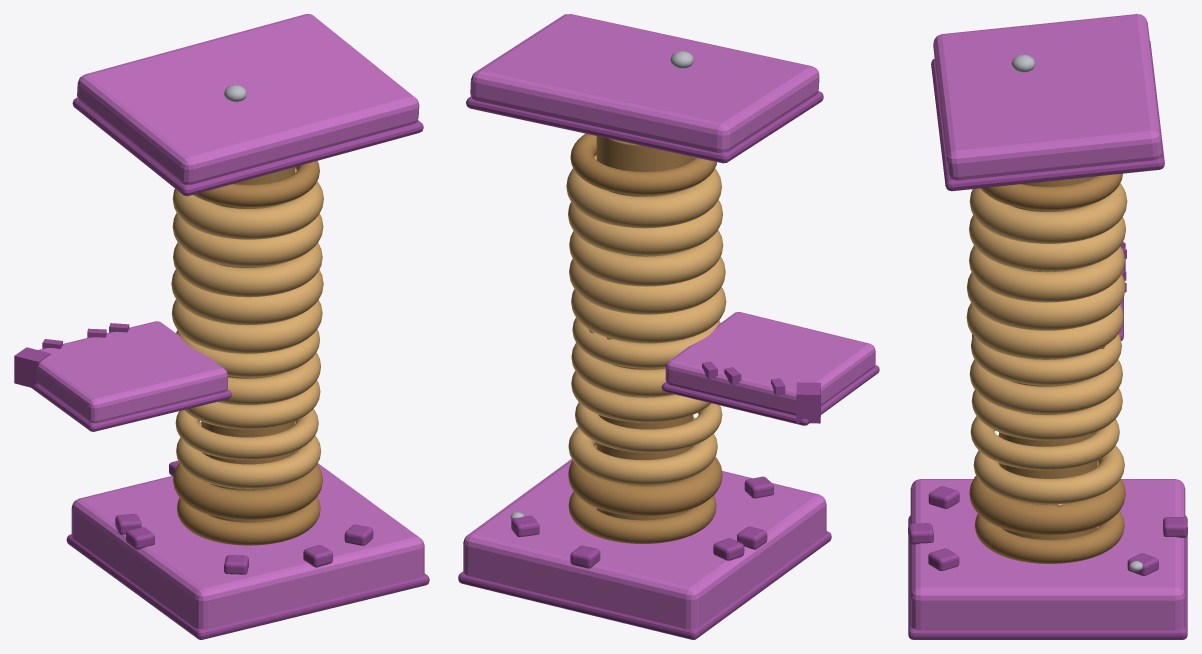
File: zc_scratch_post_ruin.godot.glb
3 renders of one model, left to right at view 1: azimuth 30°, elevation 25°; view 2: azimuth 150°, elevation 25°; view 3: azimuth 270°, elevation 25°, orthographic. The views are drawn at different scales.
Parts seen in each view (by area): view 1: zc_scratch_post_ruin; view 2: zc_scratch_post_ruin; view 3: zc_scratch_post_ruin.
Part boxes in pixels (left/top/right/bottom): zc_scratch_post_ruin: left=14, top=14, right=429, bottom=639; zc_scratch_post_ruin: left=458, top=14, right=879, bottom=639; zc_scratch_post_ruin: left=908, top=14, right=1187, bottom=639.
Size of what is drawn, in the model's own units: 0.8115 by 1.16 by 0.5708.
1 material, 1 textured.
